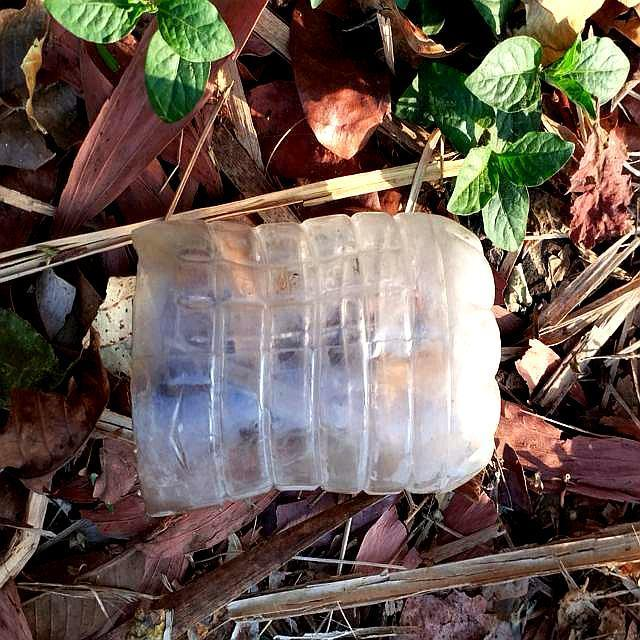Non-biodegradable: (128, 208, 504, 518)
